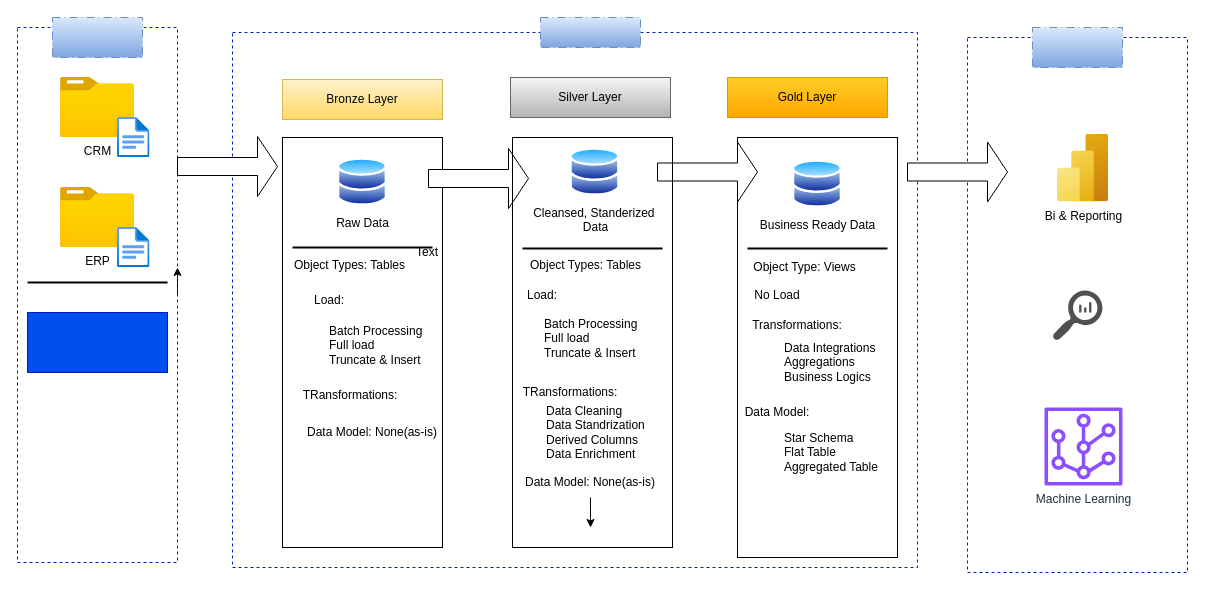
This 1205x590 diagram has some shape labels left out. Here are the shapes that lost their labels. From the top down, the box of each, then its label:
(52, 16, 142, 58): Sources
(540, 16, 640, 48): Warehouse
(1032, 26, 1122, 68): Consume
(1052, 290, 1102, 340): Ad-Hoc SQL Queries
(26, 312, 168, 372): Object Type: Csv file Interface : files in folder
